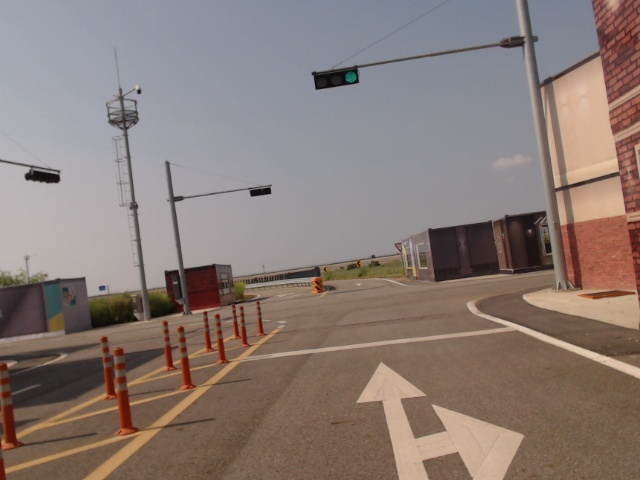green_3: (312, 66, 360, 89)
